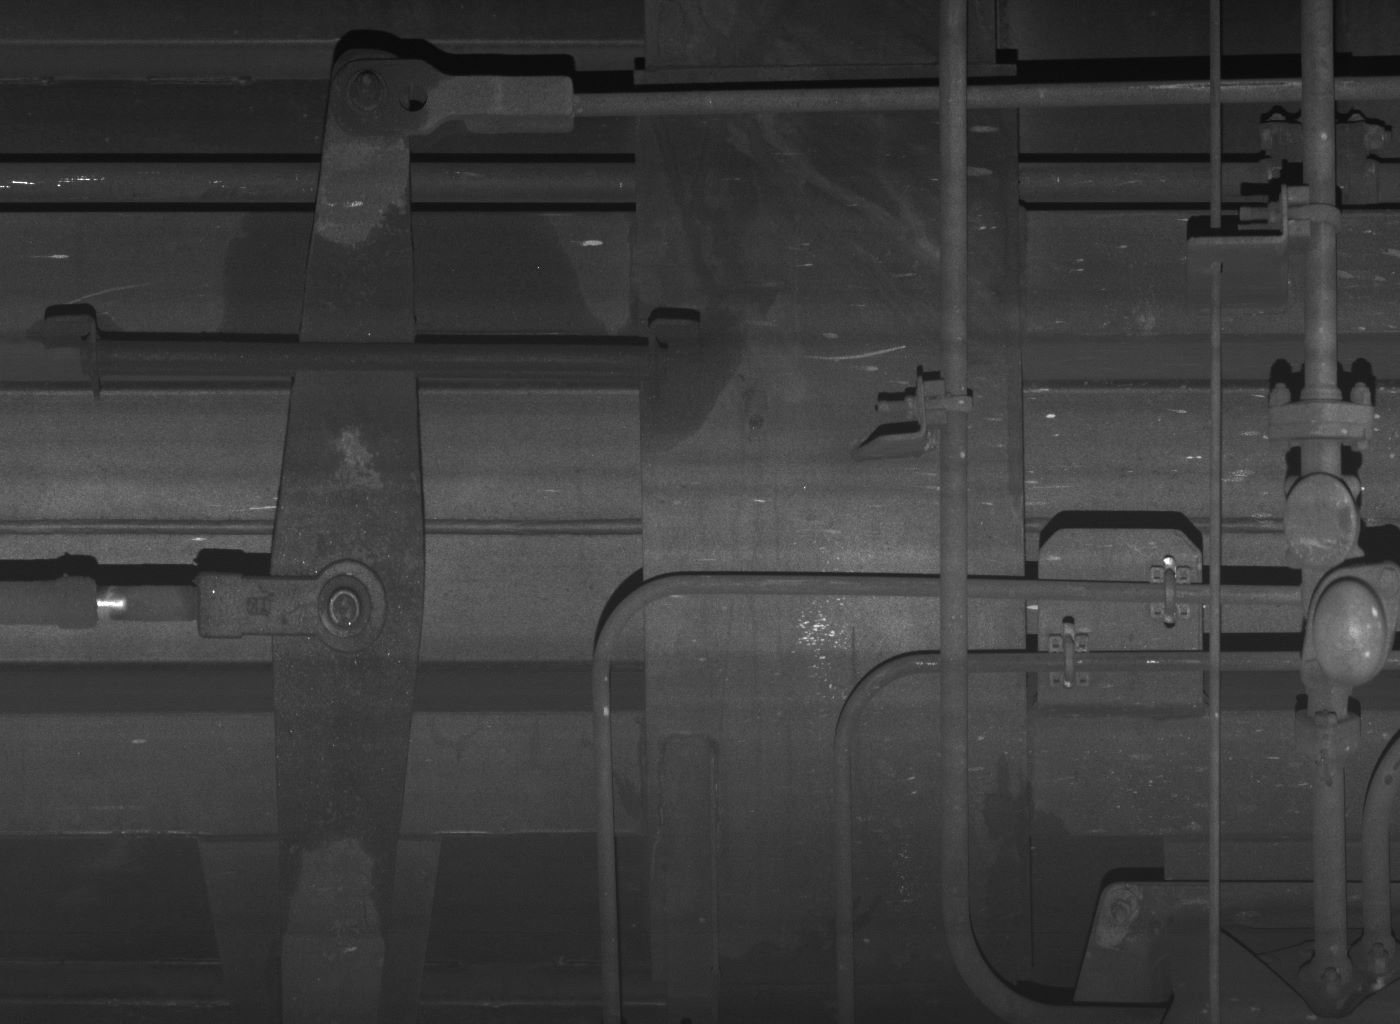normal: (1283, 475, 1363, 566)
